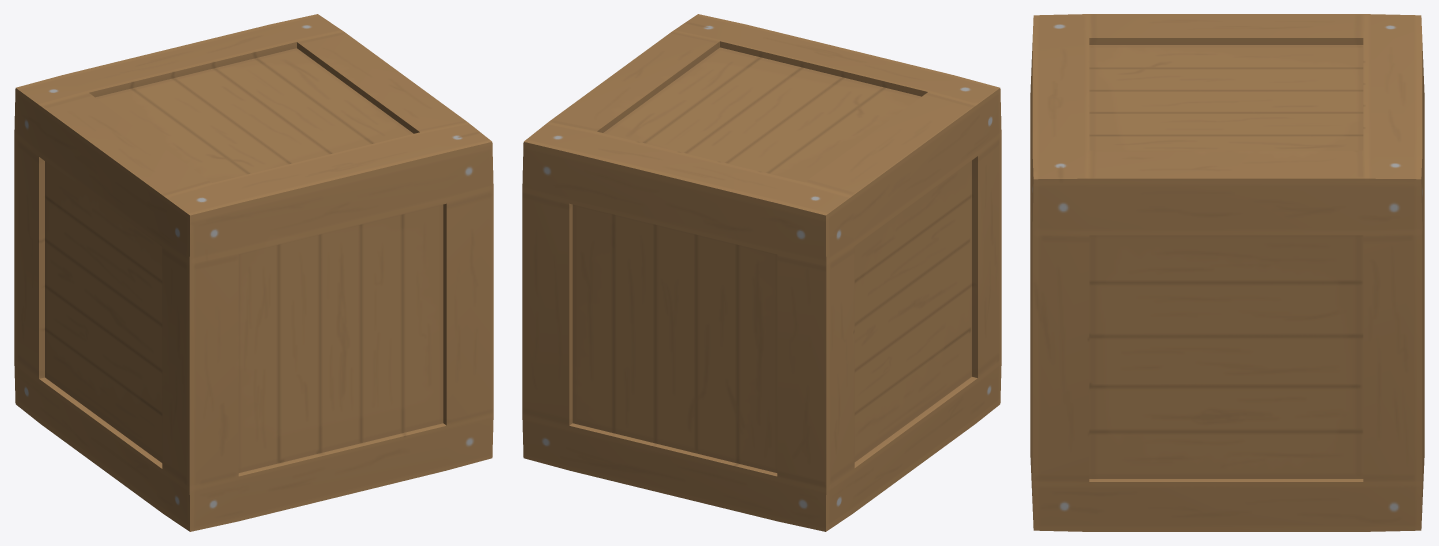
Rendered from Wooden Box.FBX.
3 views of the same model, side by side, from view 1: azimuth 30°, elevation 25°; view 2: azimuth 150°, elevation 25°; view 3: azimuth 270°, elevation 25° (orthographic). The views are drawn at different scales.
Parts seen in each view (by area): view 1: Box001; view 2: Box001; view 3: Box001.
Part boxes in pixels (x1,y1,x2,y2): Box001: (14,14,493,531); Box001: (522,14,1001,531); Box001: (1030,14,1424,531).
Size of the model in its own units: 1.04 by 1.04 by 1.04.
